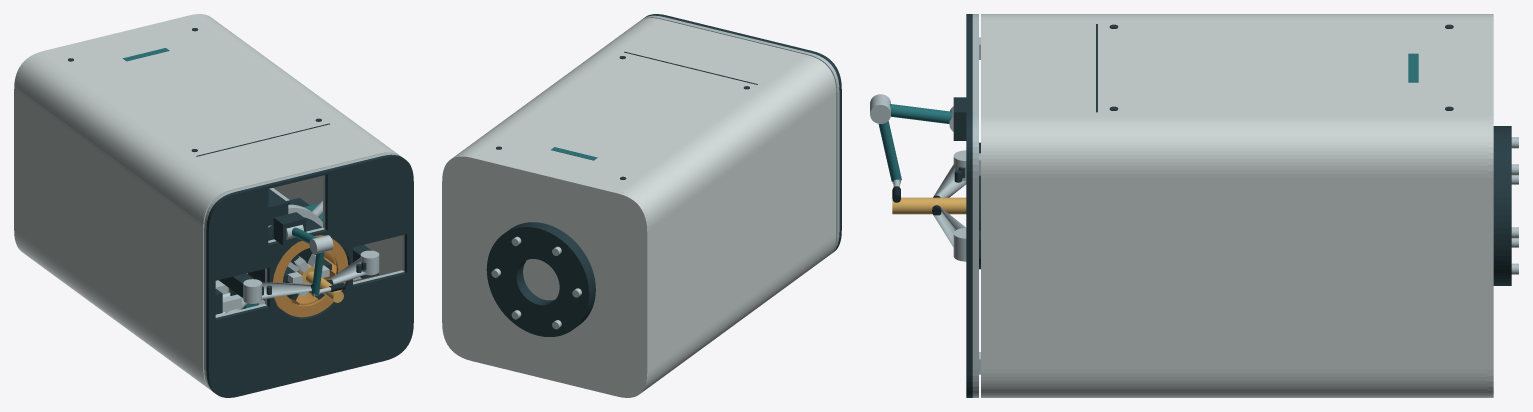
The model's file is m8-integrated-review.glb.
3 renders of one model, left to right at view 1: azimuth 30°, elevation 25°; view 2: azimuth 150°, elevation 25°; view 3: azimuth 270°, elevation 25°, orthographic. The views are drawn at different scales.
Parts seen in each view (by area): view 1: hollow-perimeter-cover, front-plate-with-working-ports, common-front-structural-plate, chuck-front-rim, rear-service-cap, straight-tapered-finger (×2), supported-fold-hinge (×2), thumb-base-mount, stationary-chuck-bearing-seat, thumb-drive-housing, held-bolt, finger-side-column (+2 smaller); view 2: hollow-perimeter-cover, rear-service-cap, robot-mount-flange, common-front-structural-plate, front-plate-with-working-ports; view 3: hollow-perimeter-cover, robot-mount-flange, front-plate-with-working-ports, rear-service-cap, common-front-structural-plate, held-bolt, thumb-proximal, thumb-distal, thumb-base-mount.
Part boxes in pixels (left/top/right/bottom): hollow-perimeter-cover: left=16, top=15, right=402, bottom=389; front-plate-with-working-ports: left=206, top=154, right=413, bottom=397; common-front-structural-plate: left=204, top=153, right=404, bottom=391; chuck-front-rim: left=273, top=235, right=348, bottom=317; rear-service-cap: left=14, top=14, right=211, bottom=251; straight-tapered-finger (×2): left=261, top=257, right=368, bottom=299; supported-fold-hinge (×2): left=243, top=250, right=379, bottom=303; thumb-base-mount: left=273, top=212, right=305, bottom=245; stationary-chuck-bearing-seat: left=247, top=217, right=346, bottom=317; thumb-drive-housing: left=268, top=189, right=288, bottom=225; held-bolt: left=298, top=264, right=343, bottom=302; finger-side-column: left=218, top=273, right=253, bottom=297; hollow-perimeter-cover: left=454, top=18, right=836, bottom=391; rear-service-cap: left=442, top=154, right=649, bottom=397; robot-mount-flange: left=486, top=222, right=595, bottom=336; common-front-structural-plate: left=641, top=15, right=839, bottom=254; front-plate-with-working-ports: left=644, top=14, right=841, bottom=252; hollow-perimeter-cover: left=981, top=14, right=1487, bottom=397; robot-mount-flange: left=1493, top=126, right=1511, bottom=285; front-plate-with-working-ports: left=966, top=14, right=972, bottom=397; rear-service-cap: left=1487, top=14, right=1493, bottom=397; common-front-structural-plate: left=972, top=14, right=978, bottom=397; held-bolt: left=892, top=197, right=966, bottom=214; thumb-proximal: left=889, top=104, right=952, bottom=123; thumb-distal: left=878, top=121, right=901, bottom=181; thumb-base-mount: left=953, top=97, right=966, bottom=140.
Bounding box in the file's own units: 0.152 × 0.145 × 0.3076.
